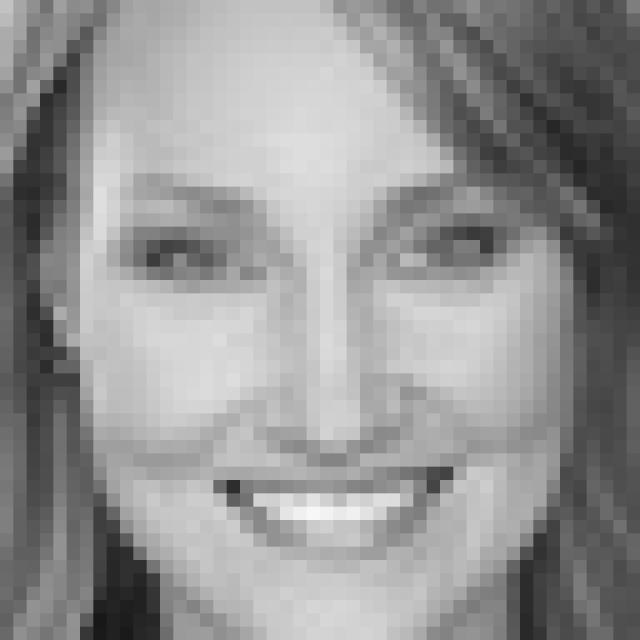happy: (112, 154, 521, 578)
